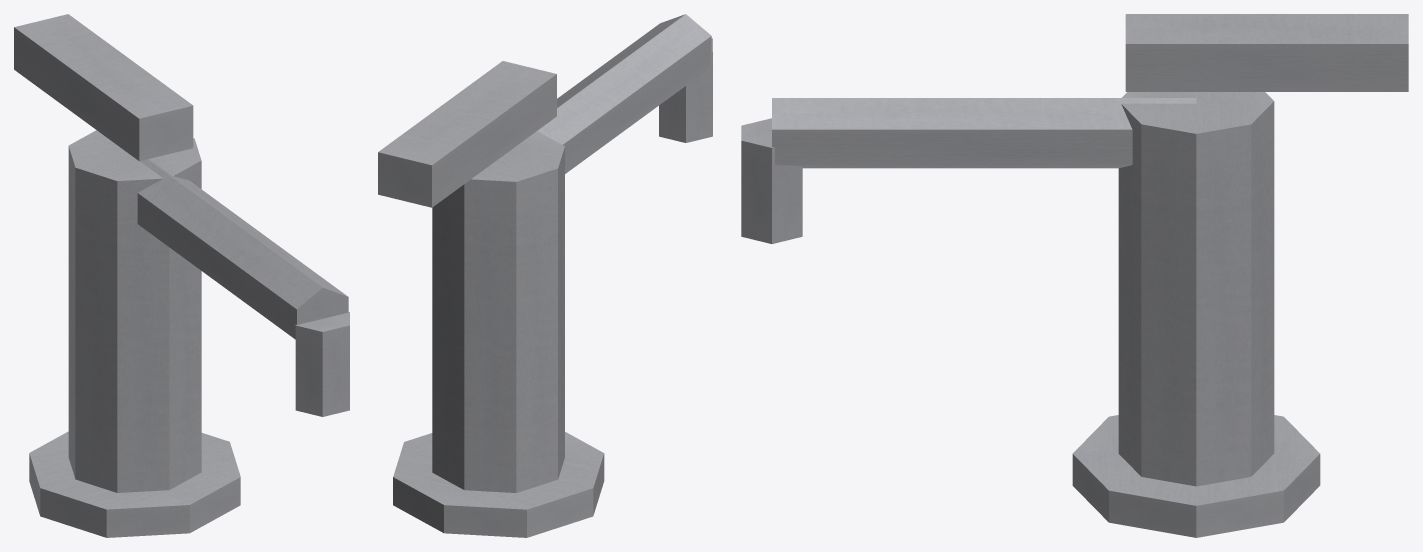
Rendered from Faucet.fbx.
3 renders of one model, left to right at view 1: azimuth 30°, elevation 25°; view 2: azimuth 150°, elevation 25°; view 3: azimuth 270°, elevation 25°, orthographic. The views are drawn at different scales.
Visible parts, largest first — view 1: Faucet; view 2: Faucet; view 3: Faucet.
Part boxes in pixels (x1,y1,x2,y2): Faucet: (14,14,349,537); Faucet: (378,14,712,537); Faucet: (741,14,1408,537).
Bounding box in the file's own units: 0.07 × 0.1425 × 0.1887.
